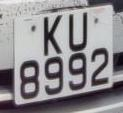2: (89, 44, 111, 93)
8: (16, 54, 44, 104)
9: (41, 51, 68, 99), (66, 49, 91, 96)
K: (42, 9, 66, 60)
U: (67, 7, 94, 55)
